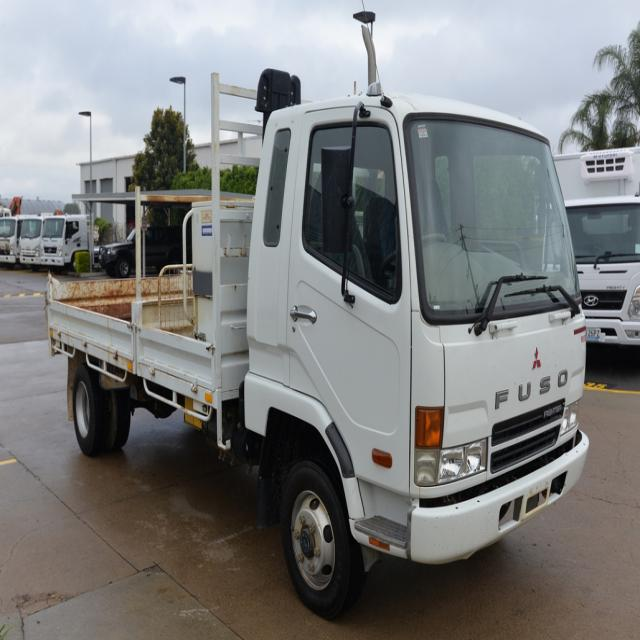Truck: (45, 70, 588, 606)
